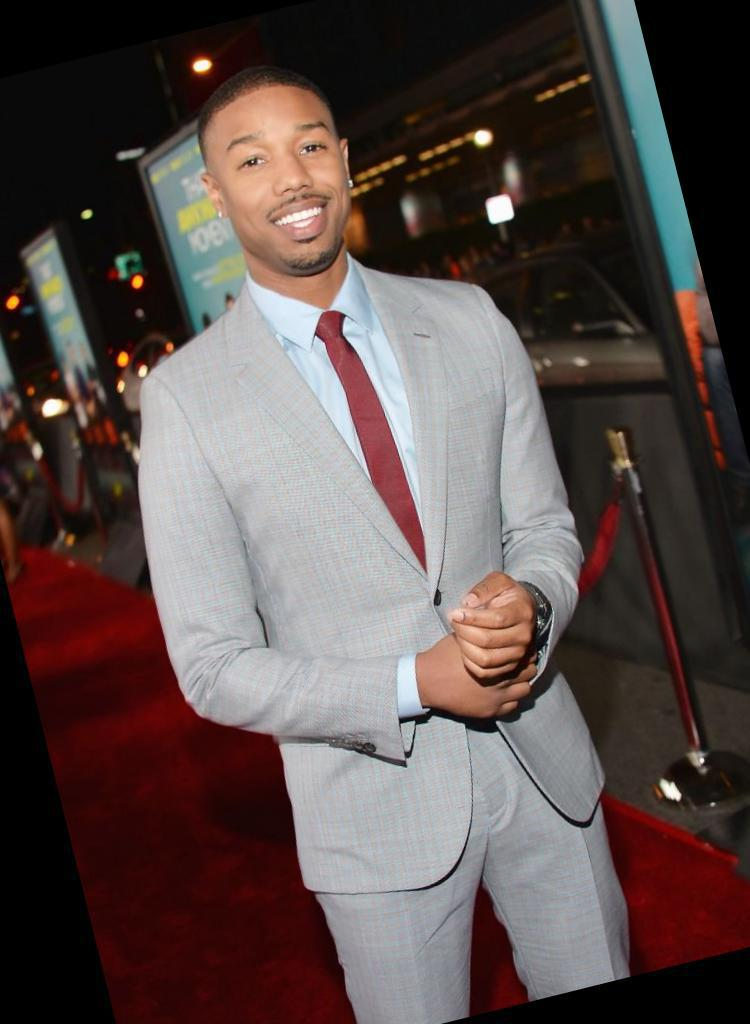Sober: (215, 94, 356, 270)
